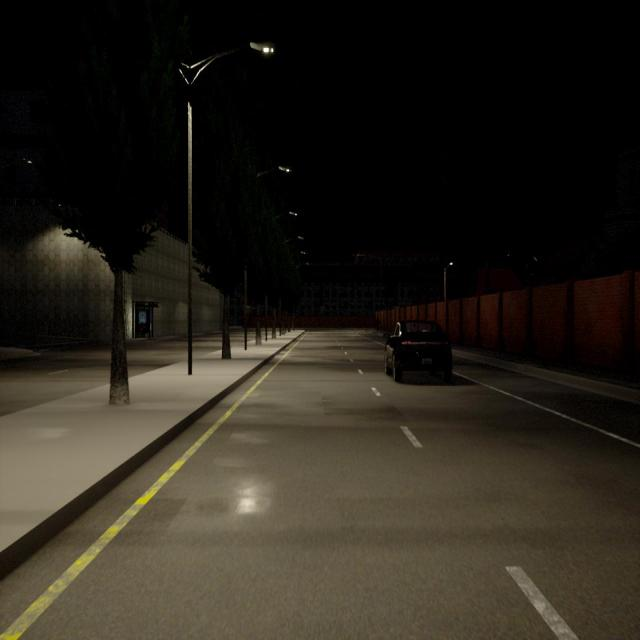Vehicle: (386, 320, 452, 381)
